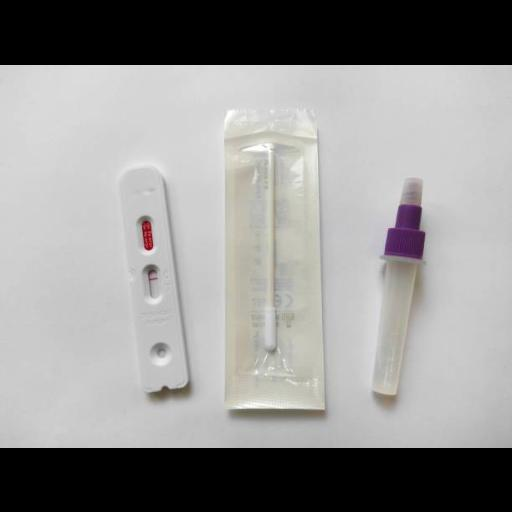Neg: (114, 166, 189, 394)
